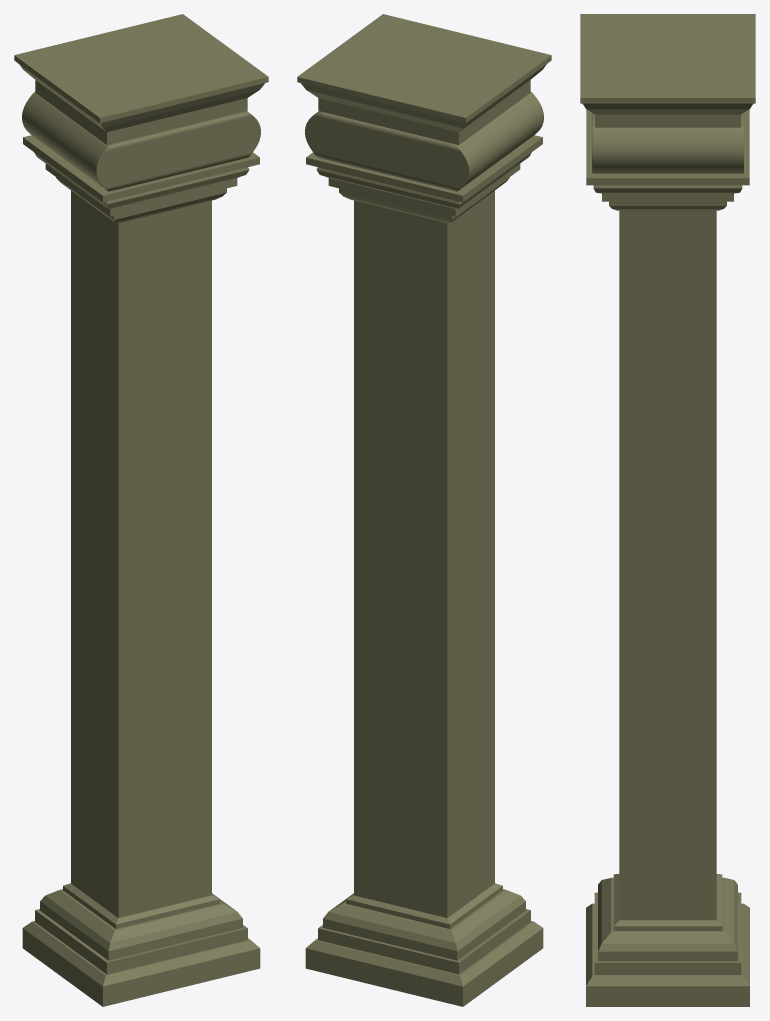
Rendered from column01.fbx.
3 views of the same model, side by side, from view 1: azimuth 30°, elevation 25°; view 2: azimuth 150°, elevation 25°; view 3: azimuth 270°, elevation 25° (orthographic). The views are drawn at different scales.
Parts seen in each view (by area): view 1: Column01; view 2: Column01; view 3: Column01.
Boxes of the visible parts, bbox=[...] form: Column01: bbox=[14, 14, 268, 1006]; Column01: bbox=[297, 14, 551, 1006]; Column01: bbox=[580, 14, 755, 1006].
Size of the model in its own units: 0.1634 by 0.8258 by 0.1441.
